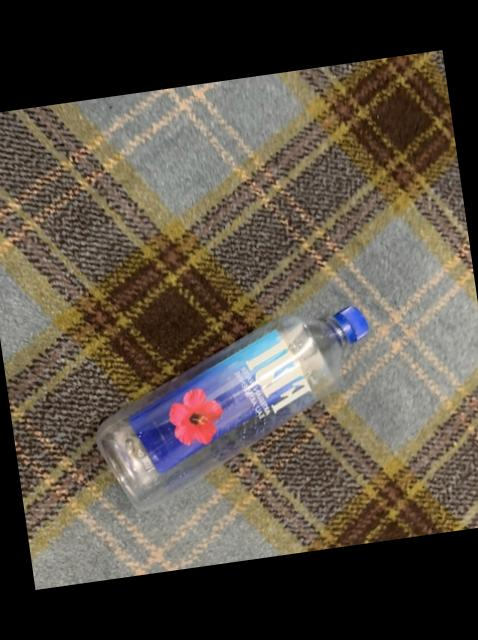plastic: (97, 309, 368, 511)
